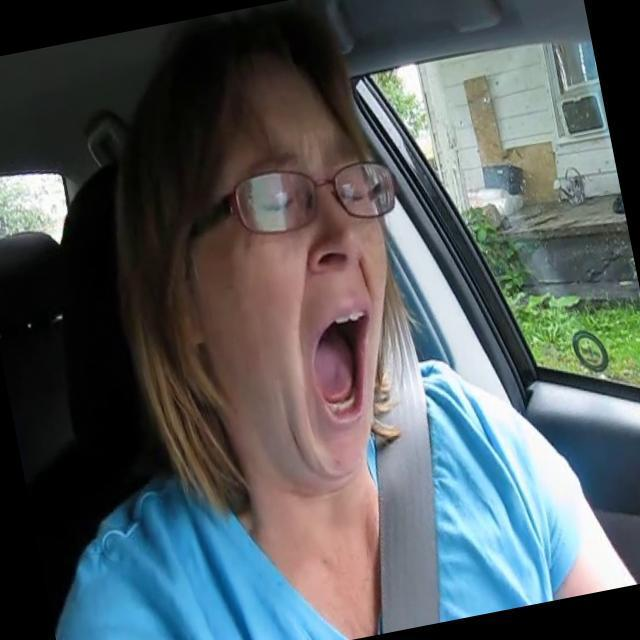open-mouth: (310, 306, 370, 430)
